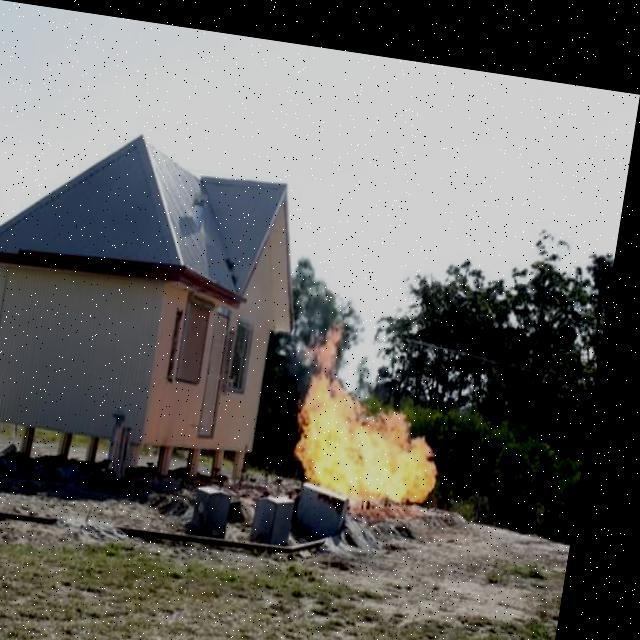Fire: (282, 326, 474, 528)
